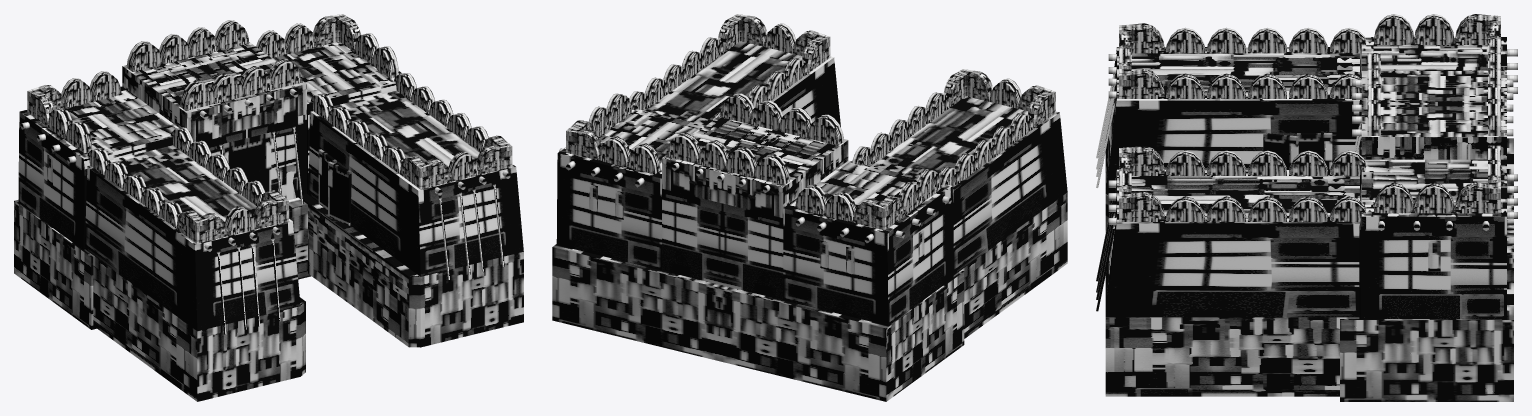
The model's file is barracks.dae.
3 views of the same model, side by side, from view 1: azimuth 30°, elevation 25°; view 2: azimuth 150°, elevation 25°; view 3: azimuth 270°, elevation 25° (orthographic). The views are drawn at different scales.
Parts seen in each view (by area): view 1: barracks.001; view 2: barracks.001; view 3: barracks.001.
Boxes of the visible parts, left/top/right/bottom form: barracks.001: left=14, top=14, right=523, bottom=401; barracks.001: left=552, top=14, right=1067, bottom=401; barracks.001: left=1096, top=14, right=1517, bottom=401.
Bounding box in the file's own units: 26.17 × 25.02 × 15.25.
